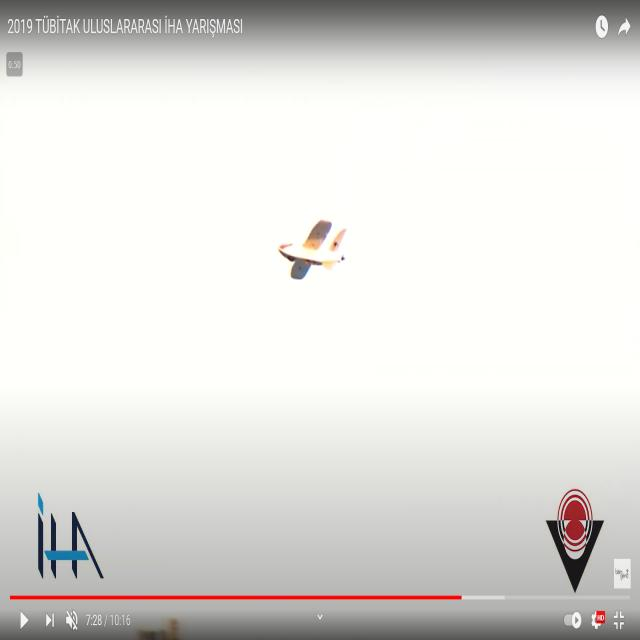iha: (309, 220, 315, 282)
